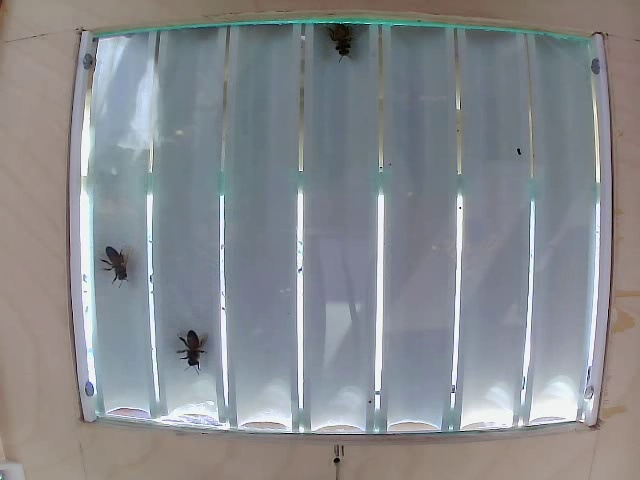bee: (178, 317, 217, 382), (322, 14, 365, 68), (101, 235, 136, 285)
